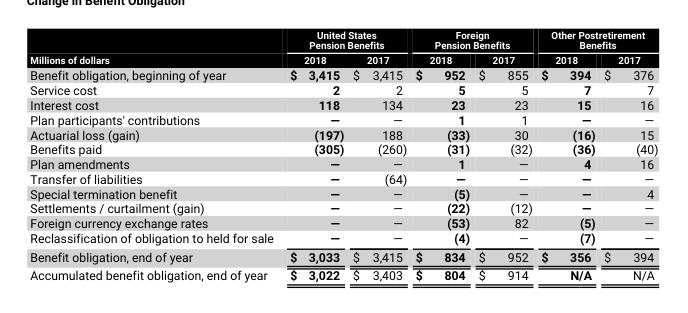table: (29, 29, 657, 282)
table column: (29, 29, 281, 282), (281, 29, 347, 282), (347, 29, 410, 282), (410, 29, 473, 282), (473, 29, 536, 282), (536, 29, 598, 282), (598, 29, 657, 282)
table column header: (29, 29, 657, 66)
table row: (29, 29, 657, 52), (29, 247, 657, 265), (29, 230, 657, 247), (29, 265, 657, 282), (29, 66, 657, 82), (29, 82, 657, 97), (29, 97, 657, 112), (29, 126, 657, 141), (29, 141, 657, 156), (29, 156, 657, 171), (29, 171, 657, 186), (29, 200, 657, 215), (29, 215, 657, 230), (29, 52, 657, 66), (29, 112, 657, 126), (29, 186, 657, 200)
table spanning cell: (29, 29, 281, 66), (281, 29, 410, 52), (410, 29, 536, 52), (536, 29, 657, 52)
